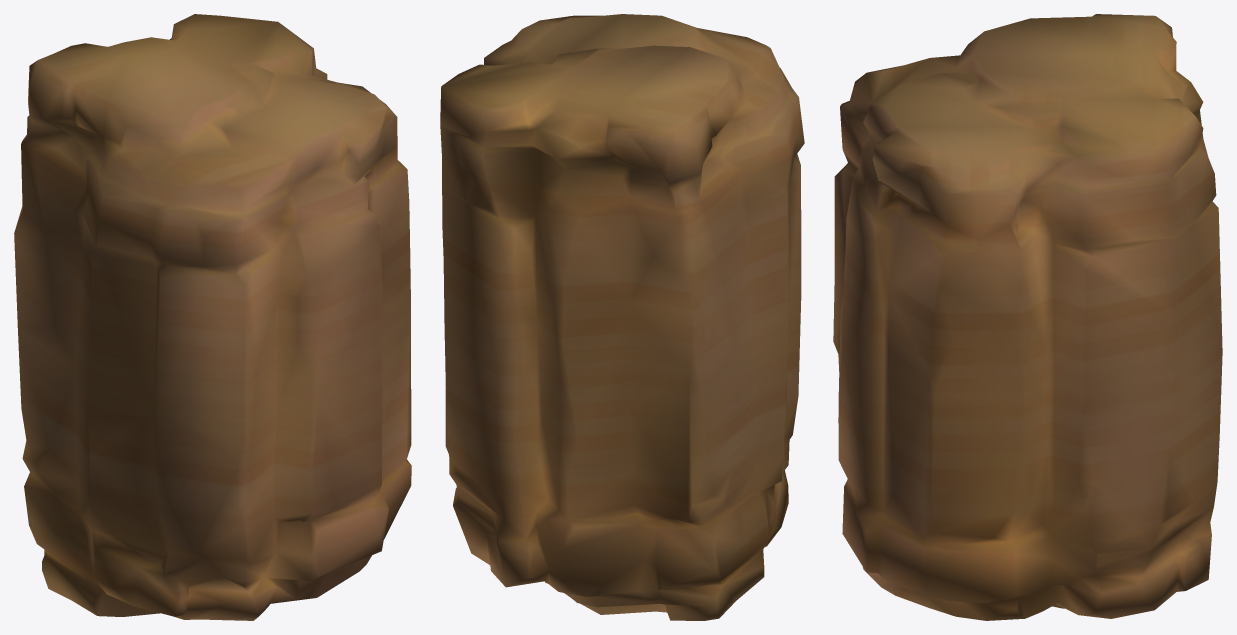
The model's file is N_DesertRockBig_B.FBX.
3 renders of one model, left to right at view 1: azimuth 30°, elevation 25°; view 2: azimuth 150°, elevation 25°; view 3: azimuth 270°, elevation 25°, orthographic. The views are drawn at different scales.
Visible parts, largest first — view 1: N_DesertRockBig_B_LOD0; view 2: N_DesertRockBig_B_LOD0; view 3: N_DesertRockBig_B_LOD0.
Boxes of the visible parts, x1,y1,x2,y2 form: N_DesertRockBig_B_LOD0: (14,14,411,620); N_DesertRockBig_B_LOD0: (440,14,804,620); N_DesertRockBig_B_LOD0: (833,14,1222,620).
Size of what is drawn, in the model's own units: 845 by 1385 by 920.
